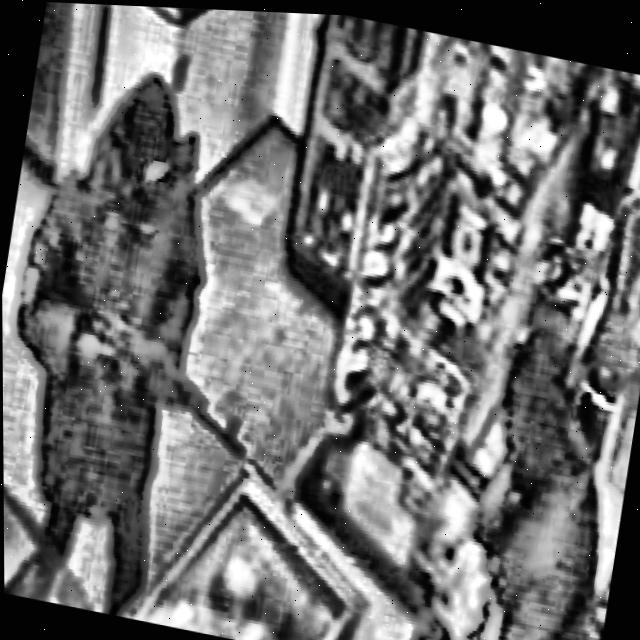robbery: (9, 68, 610, 640)
